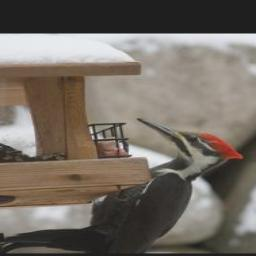Woodpecker: (0, 118, 256, 253)
